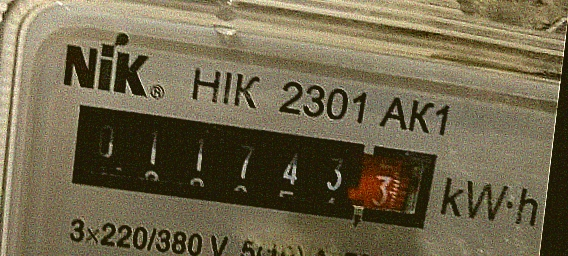0: (92, 120, 119, 161), (142, 125, 165, 168)
1: (189, 132, 209, 174)
3: (322, 151, 347, 196), (369, 169, 393, 209)
4: (278, 145, 302, 187)
7: (231, 137, 259, 183)
screen: (49, 88, 447, 241)
